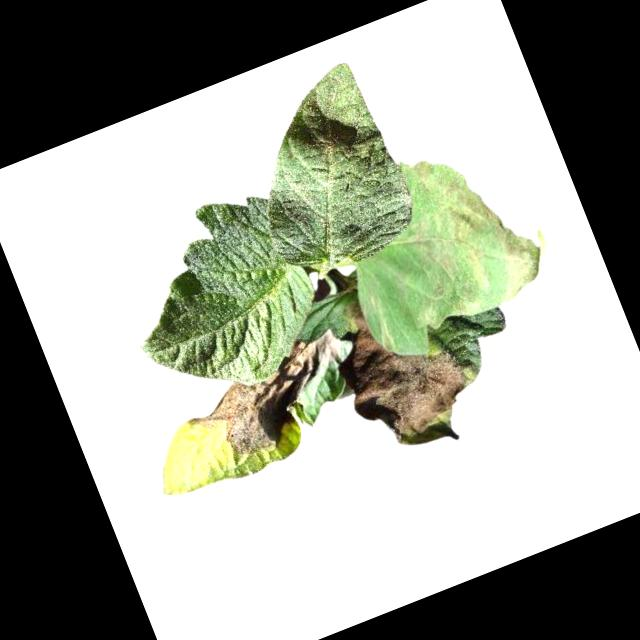Late_blight: (378, 120, 565, 329), (316, 270, 486, 458), (173, 324, 368, 474)
